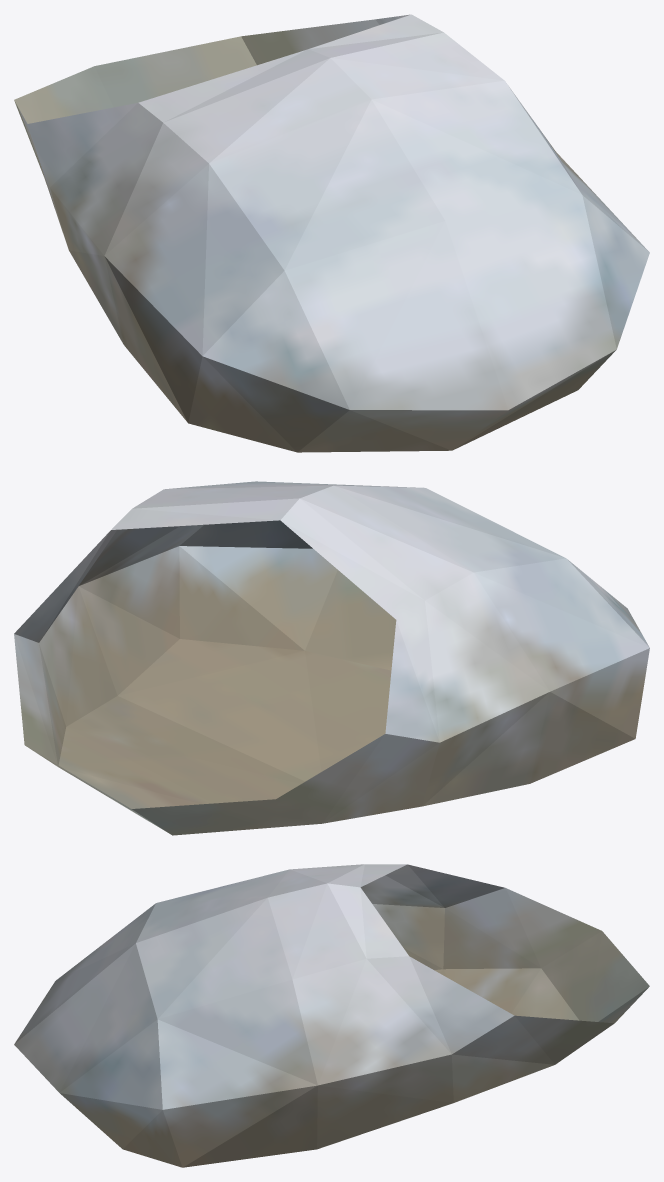
File: Pata2_Delantera_Izq.obj
The picture shows the model from 3 angles, top to bottom: view 1: azimuth 30°, elevation 25°; view 2: azimuth 150°, elevation 25°; view 3: azimuth 270°, elevation 25°; orthographic projection. The views are drawn at different scales.
Visible parts, largest first — view 1: Pata2_Delantera_IzqpolySurface20polySurface18polySurface16polySu; view 2: Pata2_Delantera_IzqpolySurface20polySurface18polySurface16polySu; view 3: Pata2_Delantera_IzqpolySurface20polySurface18polySurface16polySu.
Boxes of the visible parts, x1=… form: Pata2_Delantera_IzqpolySurface20polySurface18polySurface16polySu: x1=14, y1=14, x2=649, y2=452; Pata2_Delantera_IzqpolySurface20polySurface18polySurface16polySu: x1=14, y1=481, x2=649, y2=835; Pata2_Delantera_IzqpolySurface20polySurface18polySurface16polySu: x1=14, y1=864, x2=649, y2=1167.
Bounding box in the file's own units: 0.0341 × 0.0203 × 0.0511.
1 material, 1 textured.
